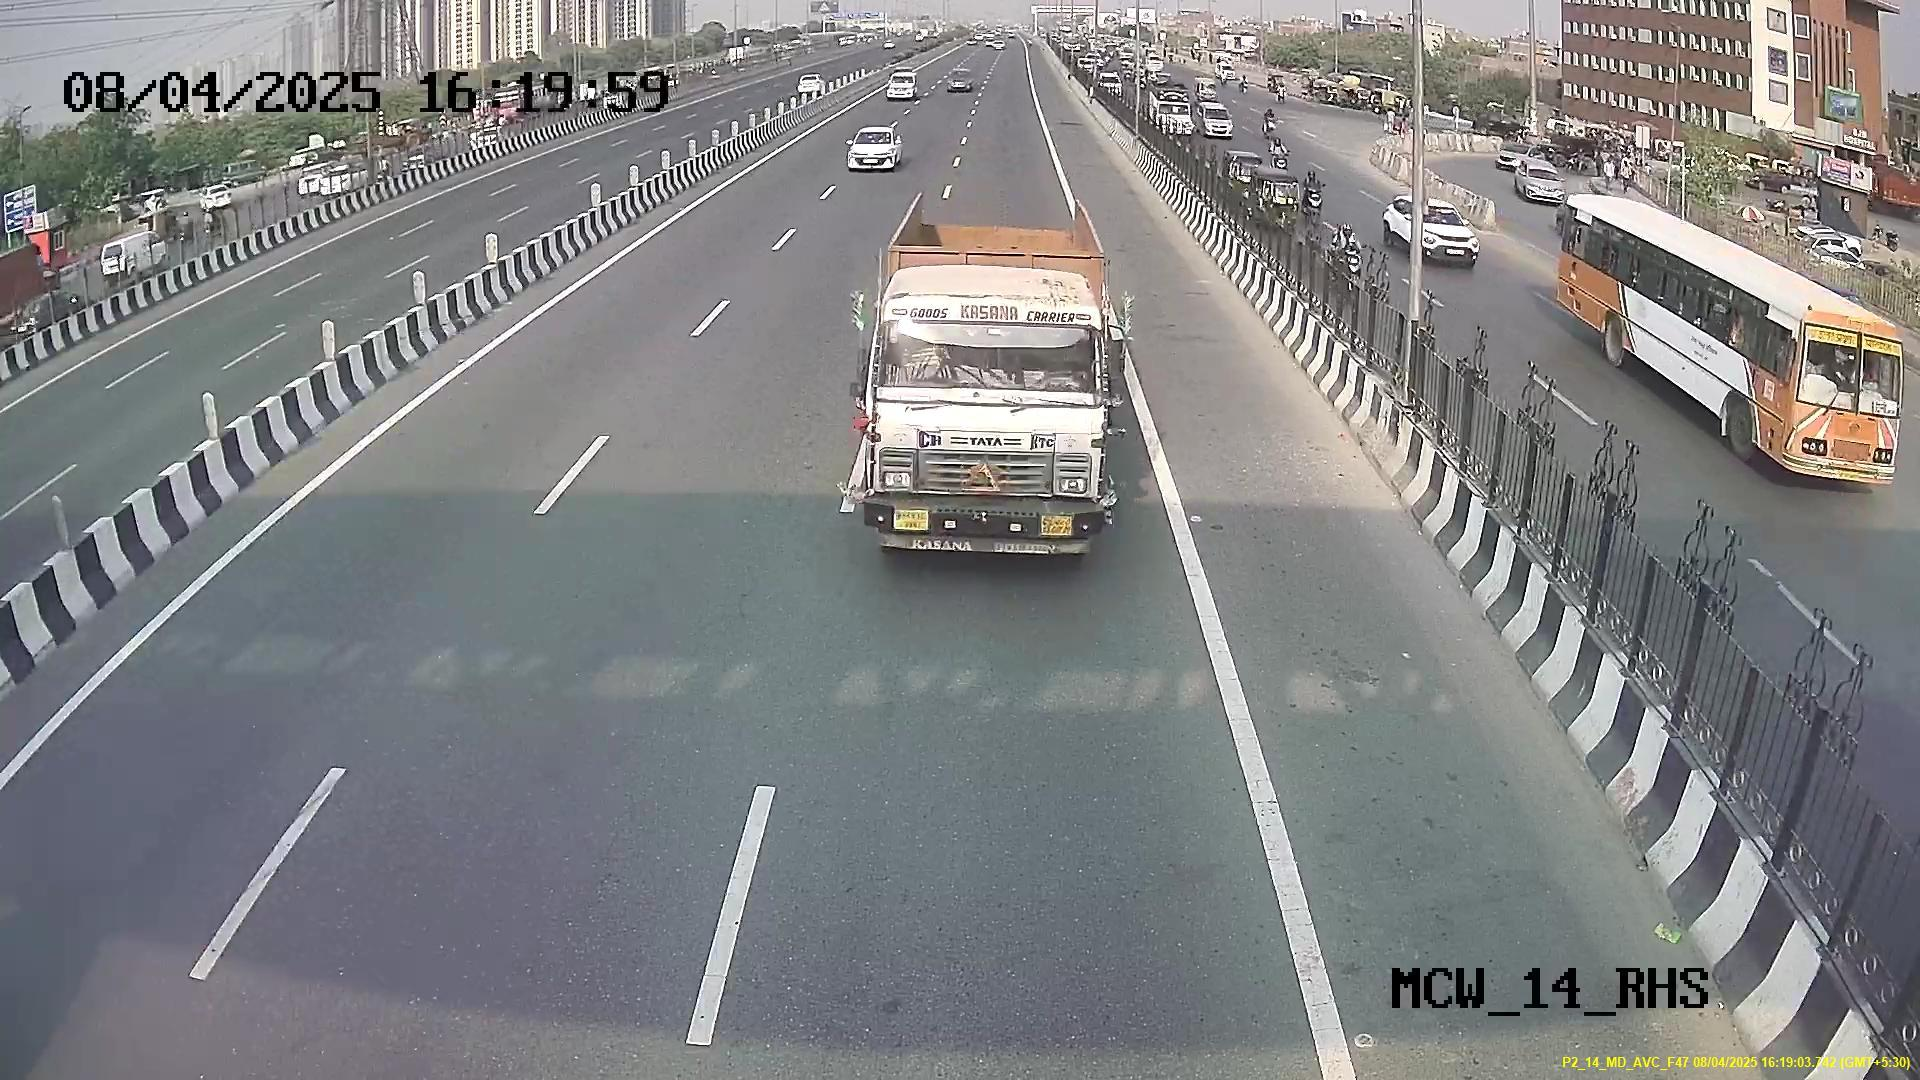truck: (855, 295, 1121, 566)
